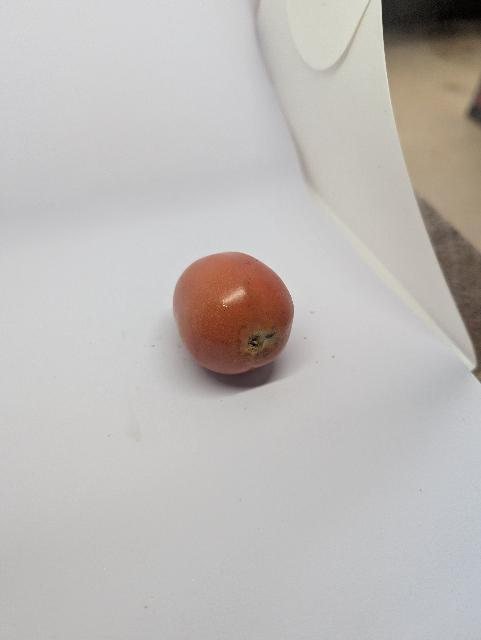red: (166, 241, 303, 389)
